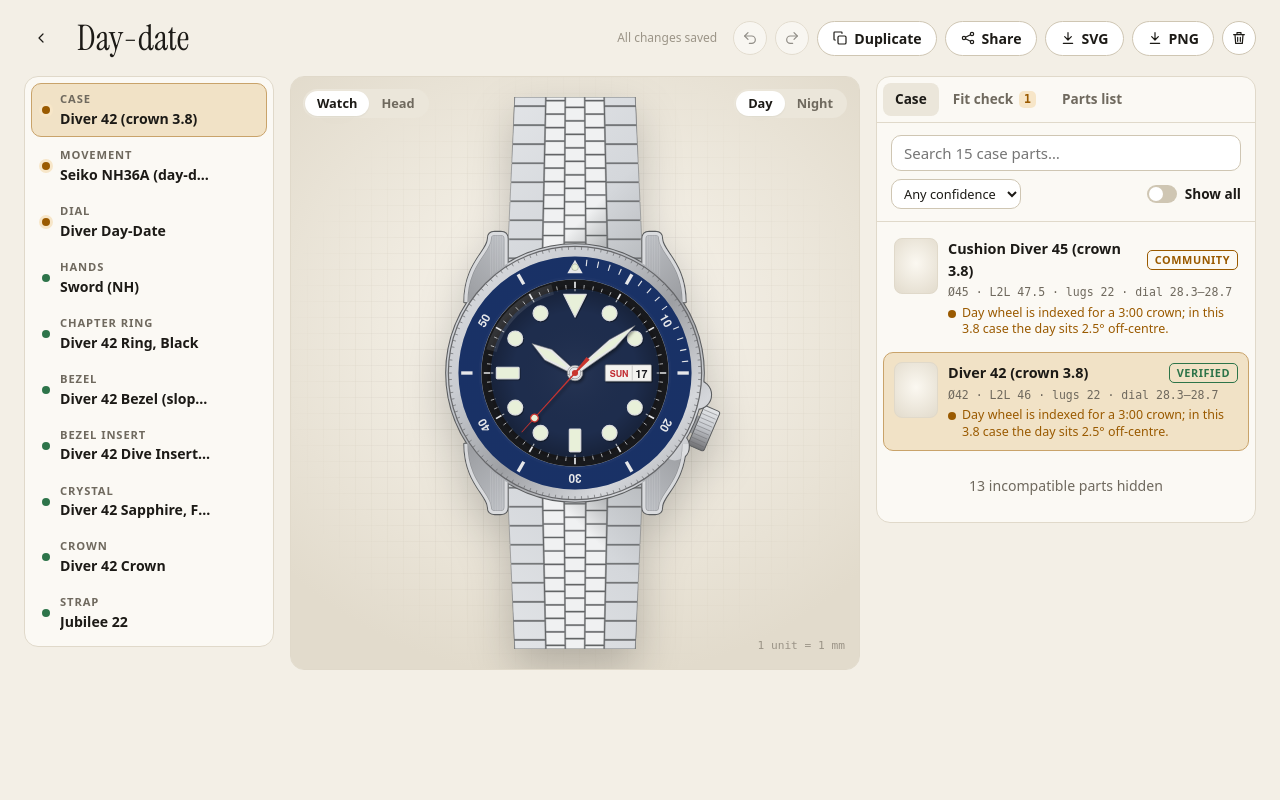
Test: BuilderScreen › NH36 day-date in a 3.8 case warns about the day offset until the day wheel is swapped
Check: the field named "Build name" is shown, box [70, 16, 601, 60]
Click the tab "Fit check 1" at (994, 99), box [941, 83, 1048, 116]
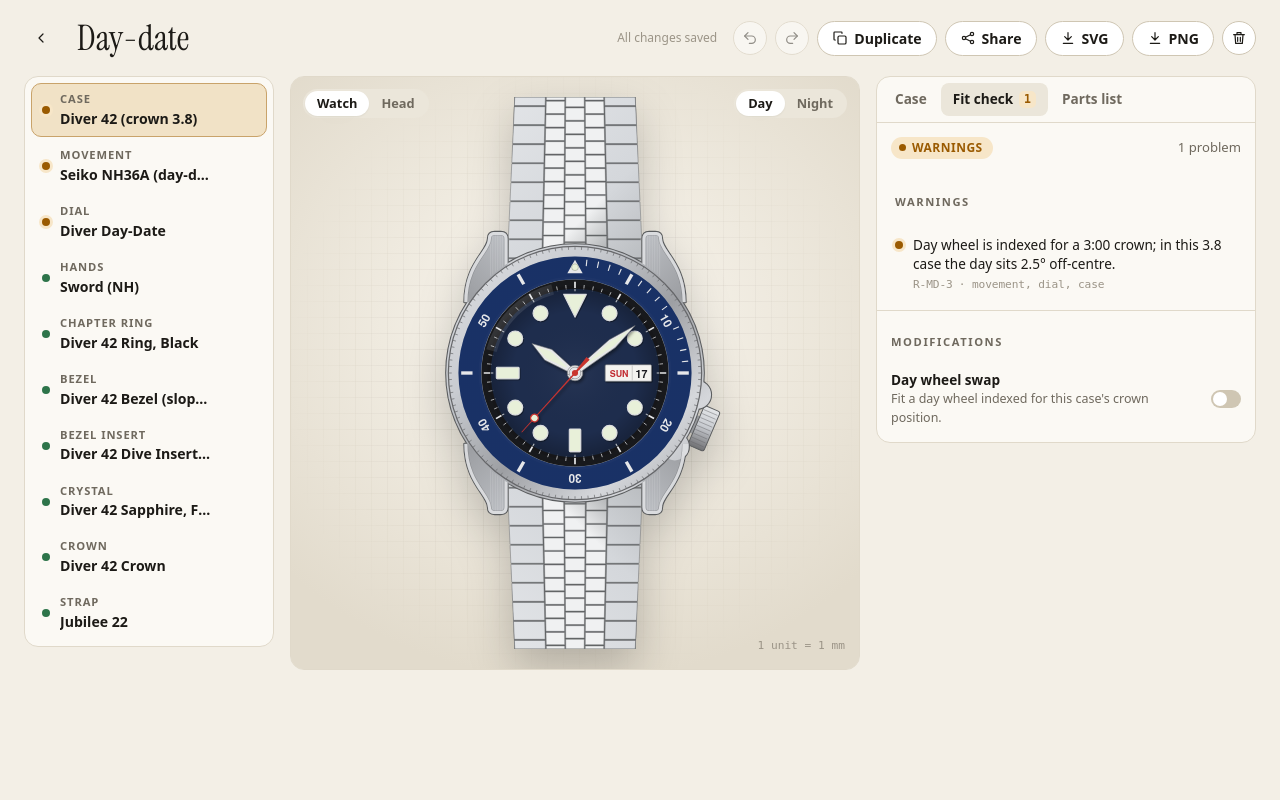
Click the checkbox labelled "Day wheel swap" at (1226, 399), box [1211, 390, 1241, 408]
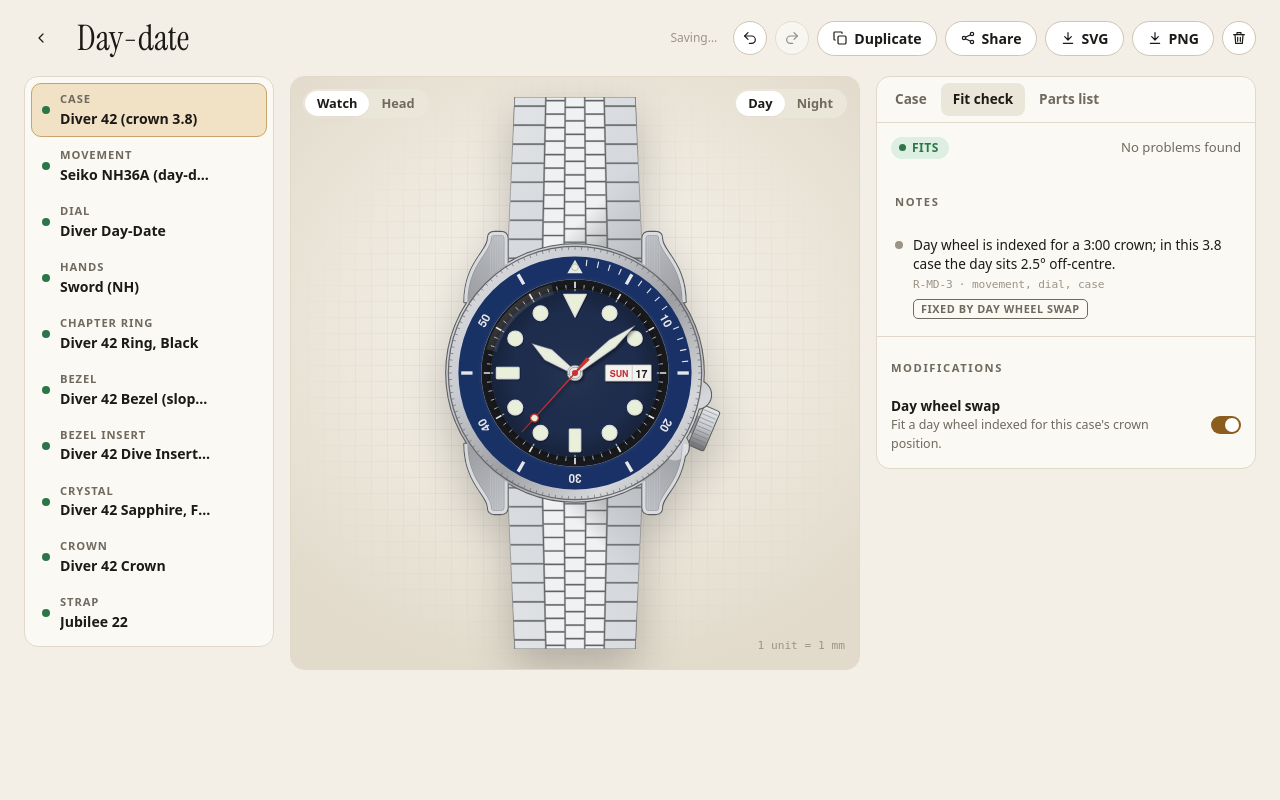
Check: the text "Warnings" is gone
Check: the text "Fits" is shown, box [891, 137, 949, 159]
Check: the text "fixed by day wheel swap" is shown, box [913, 298, 1088, 319]
